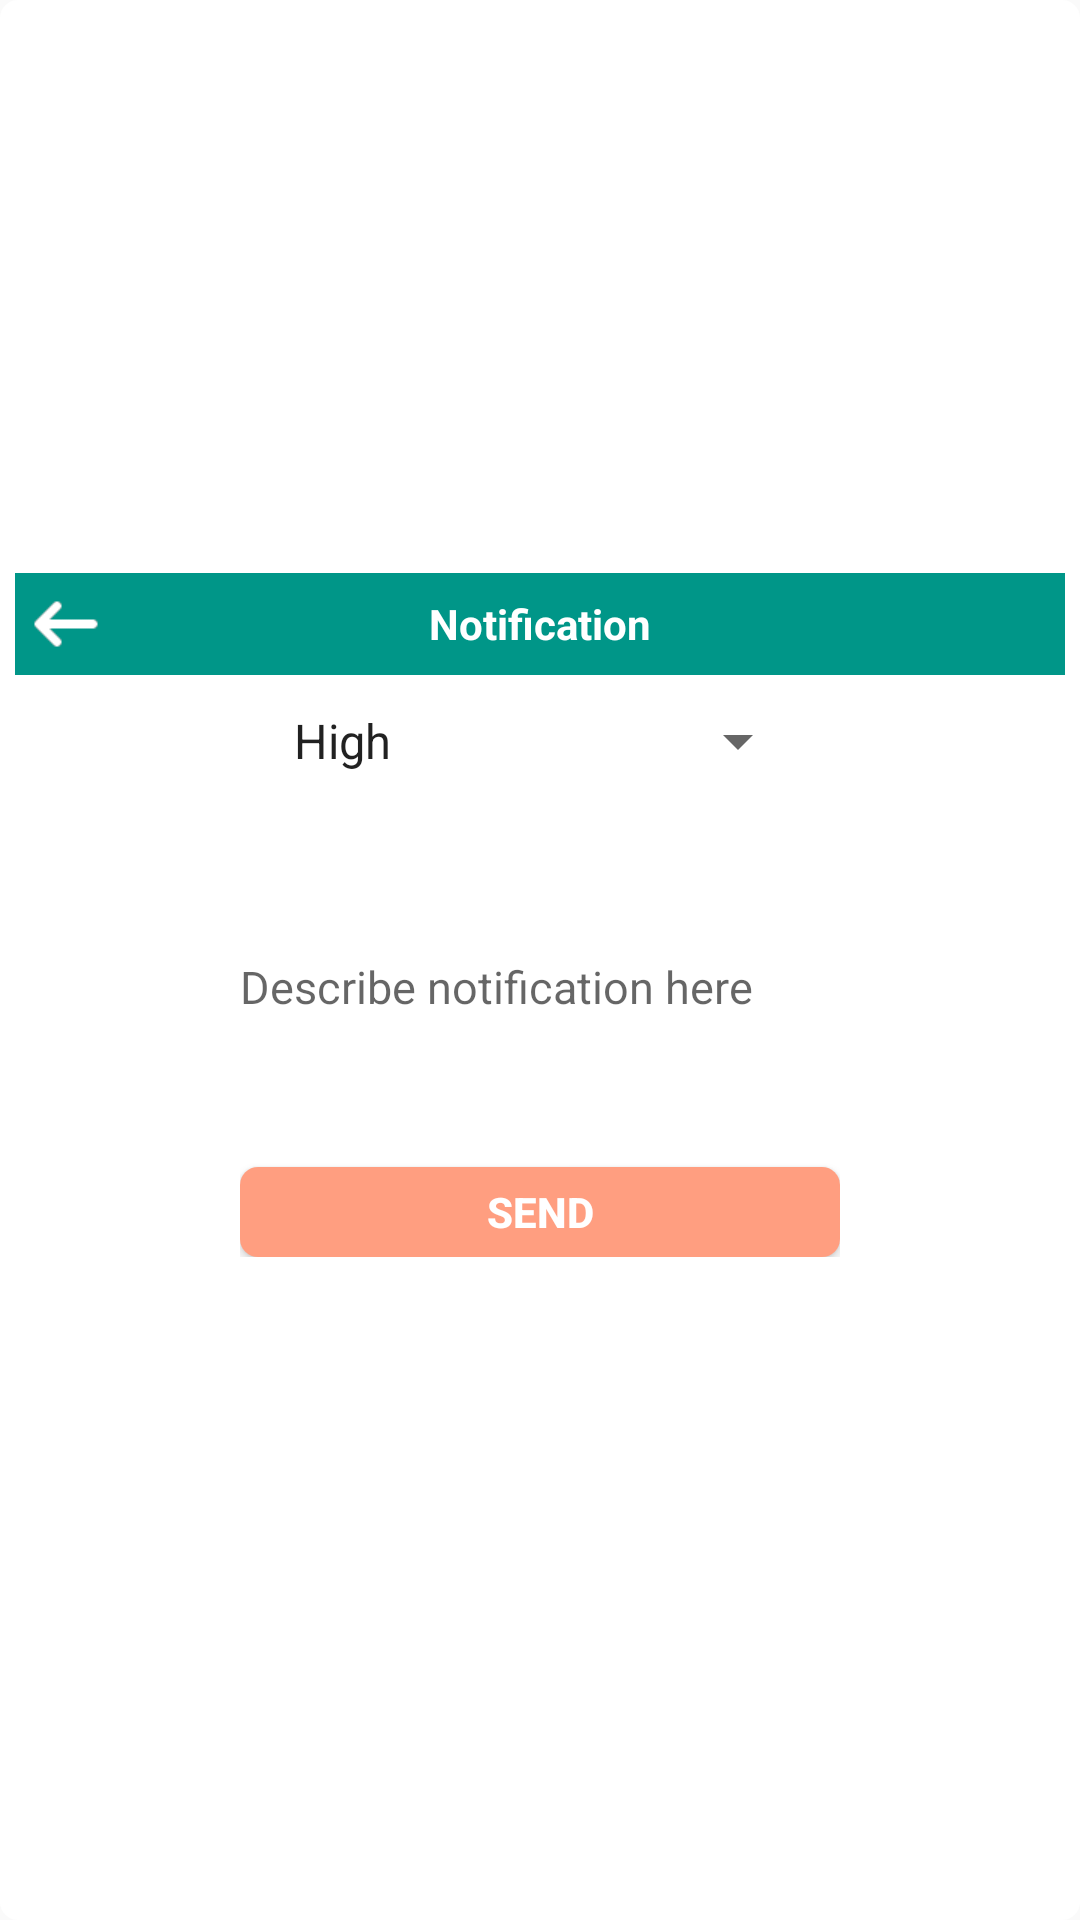

Named icons in this screenshot (1080w x 1920h) and their centers, (x=x, y=y):
back arrow: (x=66, y=624)
